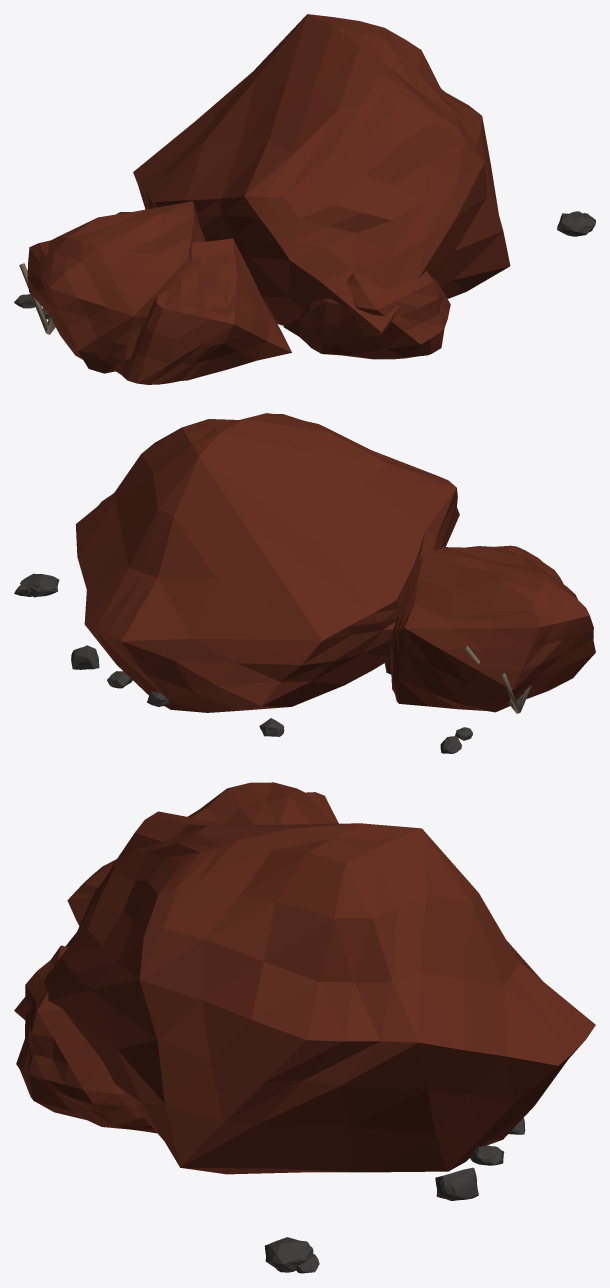
Rendered from cover_rock_7.glb.
The picture shows the model from 3 angles, top to bottom: view 1: azimuth 30°, elevation 25°; view 2: azimuth 150°, elevation 25°; view 3: azimuth 270°, elevation 25°; orthographic projection. The views are drawn at different scales.
Visible parts, largest first — view 1: rock_0, rock_1, rock_3, rock_4, grit_6; view 2: rock_0, rock_1, grit_6, rock_3, grit_2; view 3: rock_0, rock_4, rock_1, grit_6, grit_2, rock_3.
Boxes of the visible parts, x1,y1,x2,y2 form: rock_0: [133, 14, 510, 336]; rock_1: [27, 201, 205, 373]; rock_3: [113, 238, 291, 384]; rock_4: [283, 271, 450, 359]; grit_6: [557, 213, 595, 236]; rock_0: [75, 413, 459, 712]; rock_1: [390, 547, 595, 712]; grit_6: [20, 573, 59, 597]; rock_3: [384, 545, 563, 674]; grit_2: [71, 645, 99, 669]; rock_0: [14, 811, 595, 1174]; rock_4: [16, 945, 156, 1133]; rock_1: [187, 782, 338, 824]; grit_6: [264, 1237, 313, 1272]; grit_2: [435, 1167, 478, 1200]; rock_3: [67, 859, 116, 925].
Bounding box in the file's own units: 2.52 × 1.05 × 1.74.
